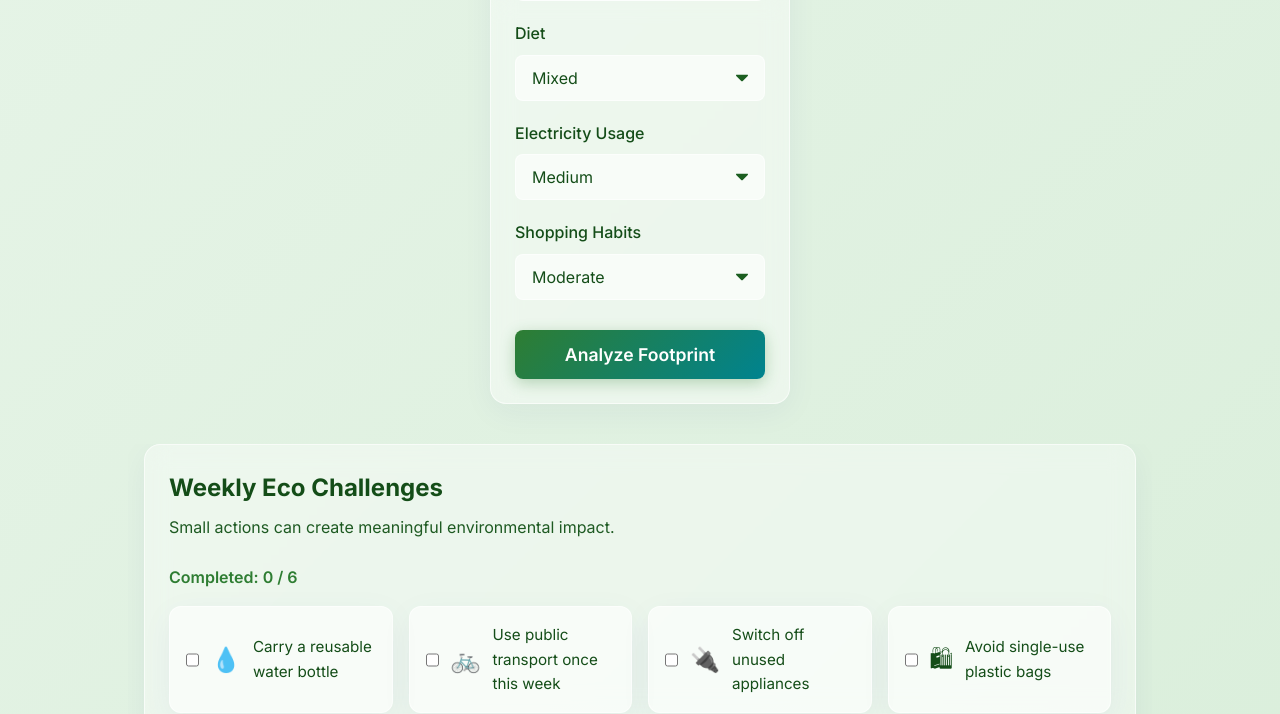
Test: EcoTrack AI Application › renders Loading State and Carbon Score section asynchronously
(page scrolled)
Click the button "Analyze Footprint" at [640, 354], box [515,330,765,379]
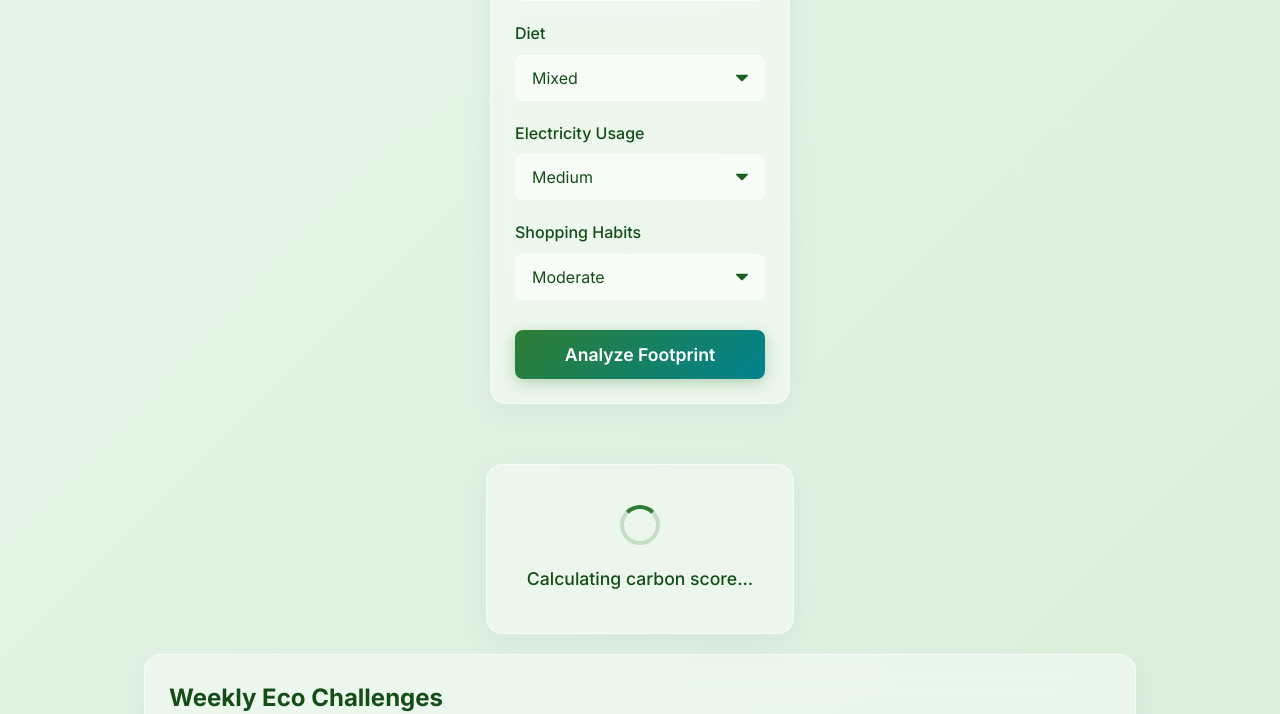
expect the text "Calculating carbon score..." is shown: met, box [527,565,753,593]
